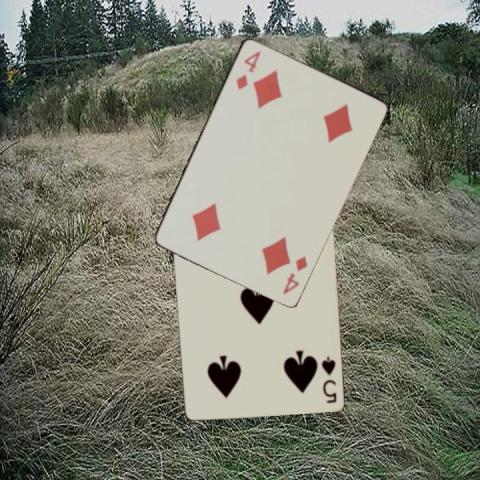4d: (233, 47, 262, 91), (279, 253, 309, 295)
5s: (318, 353, 338, 404)
